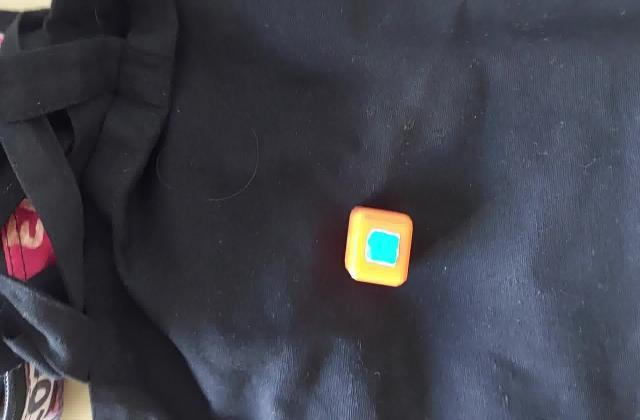blue: (374, 236, 396, 261)
sticker: (342, 203, 414, 289)
